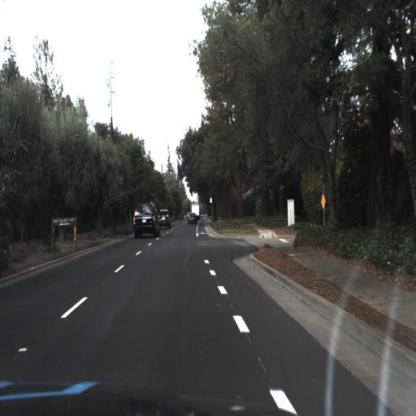car: (132, 200, 161, 242), (155, 208, 174, 232), (192, 202, 202, 219), (188, 212, 199, 226)
truck: (189, 200, 202, 226)
